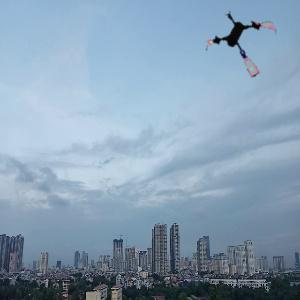drone: (206, 6, 282, 82)
